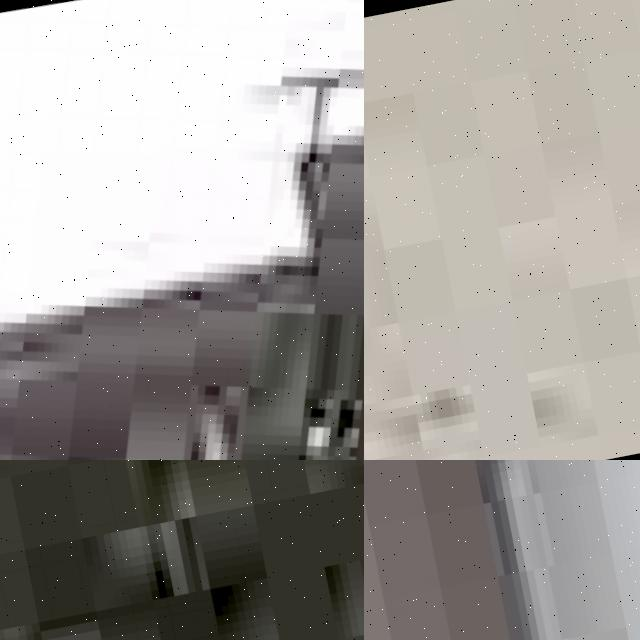drone: (0, 0, 364, 460)
